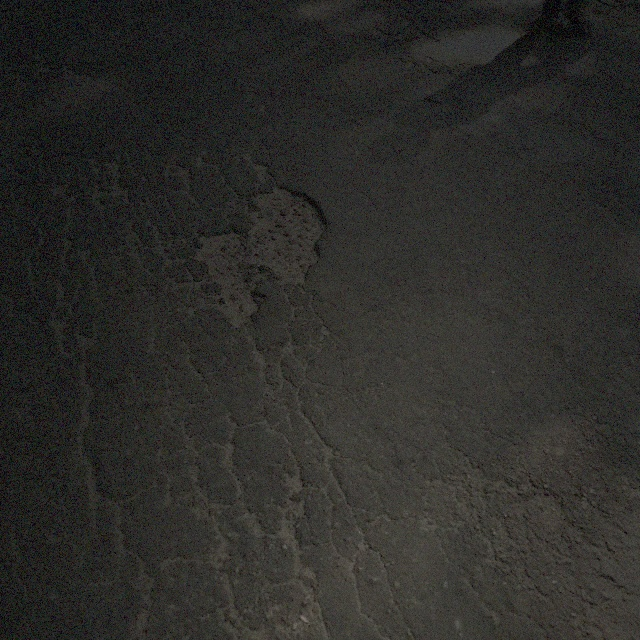pothole: (188, 178, 329, 330)
